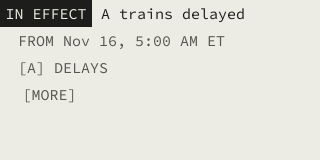
Test case: EventItem collapsible (UX review B13) › folds the text behind MORE and opens it
Expected: the text "Take the" is not shown
Step 1. Click the button with aria-label "Show the text" → click(50, 94), box [18,81,81,108]
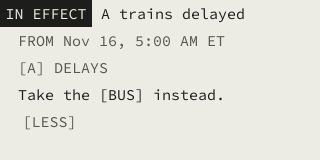
Expected: the text "Take the [BUS] instead." is shown, [18,81,225,108]
Expected: the button with aria-label "Hide the text" is shown, [18,108,81,135]
